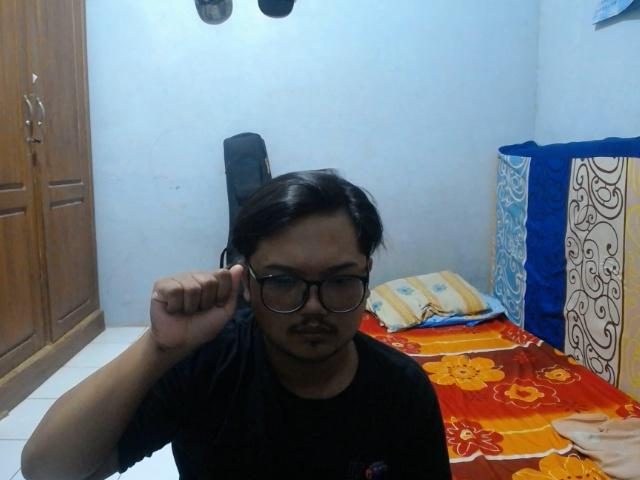Grab: (146, 262, 246, 354)
